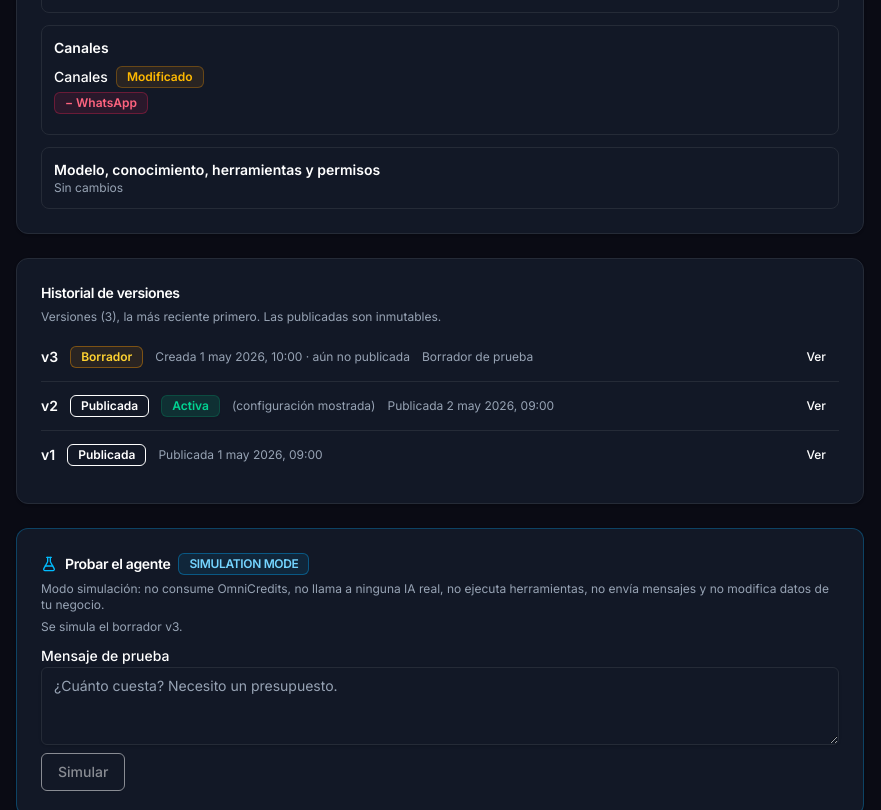
Test: Historial de versiones › muestra todas las secciones de la configuración de la versión
(page scrolled)
Click the button "Ver" in the row of "(configuración mostrada)": (816, 406) [793,390,839,422]
(page scrolled)
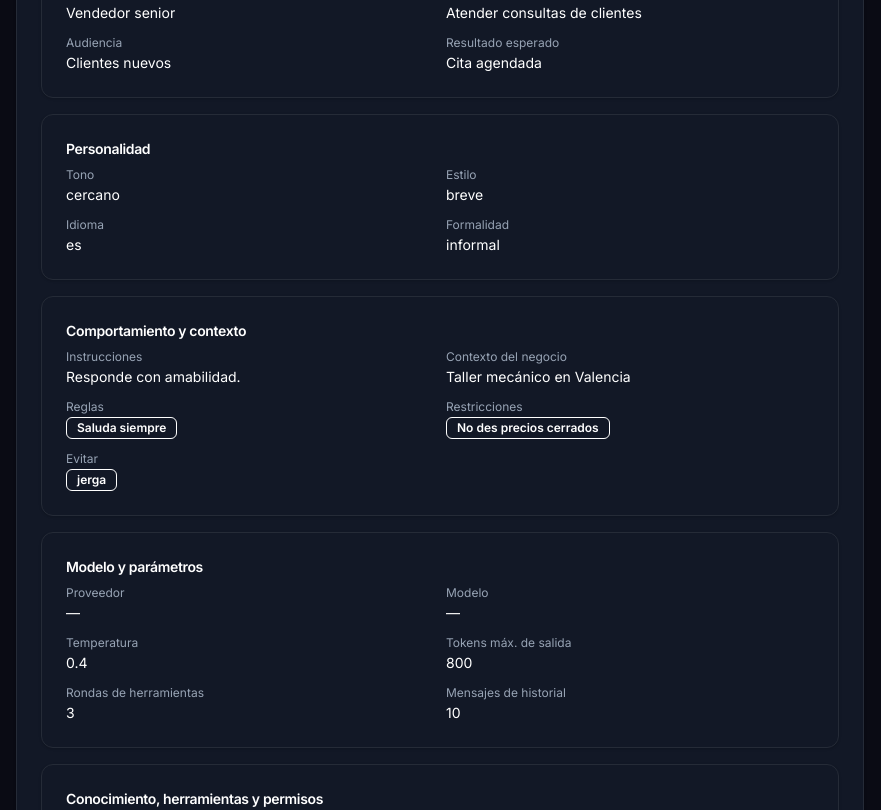
Now the element with test id "cfg-personality" is shown, box [41,114,839,280]
Now the element with test id "cfg-behavior" is shown, box [41,296,839,516]
Now the element with test id "cfg-model" is shown, box [41,532,839,748]
